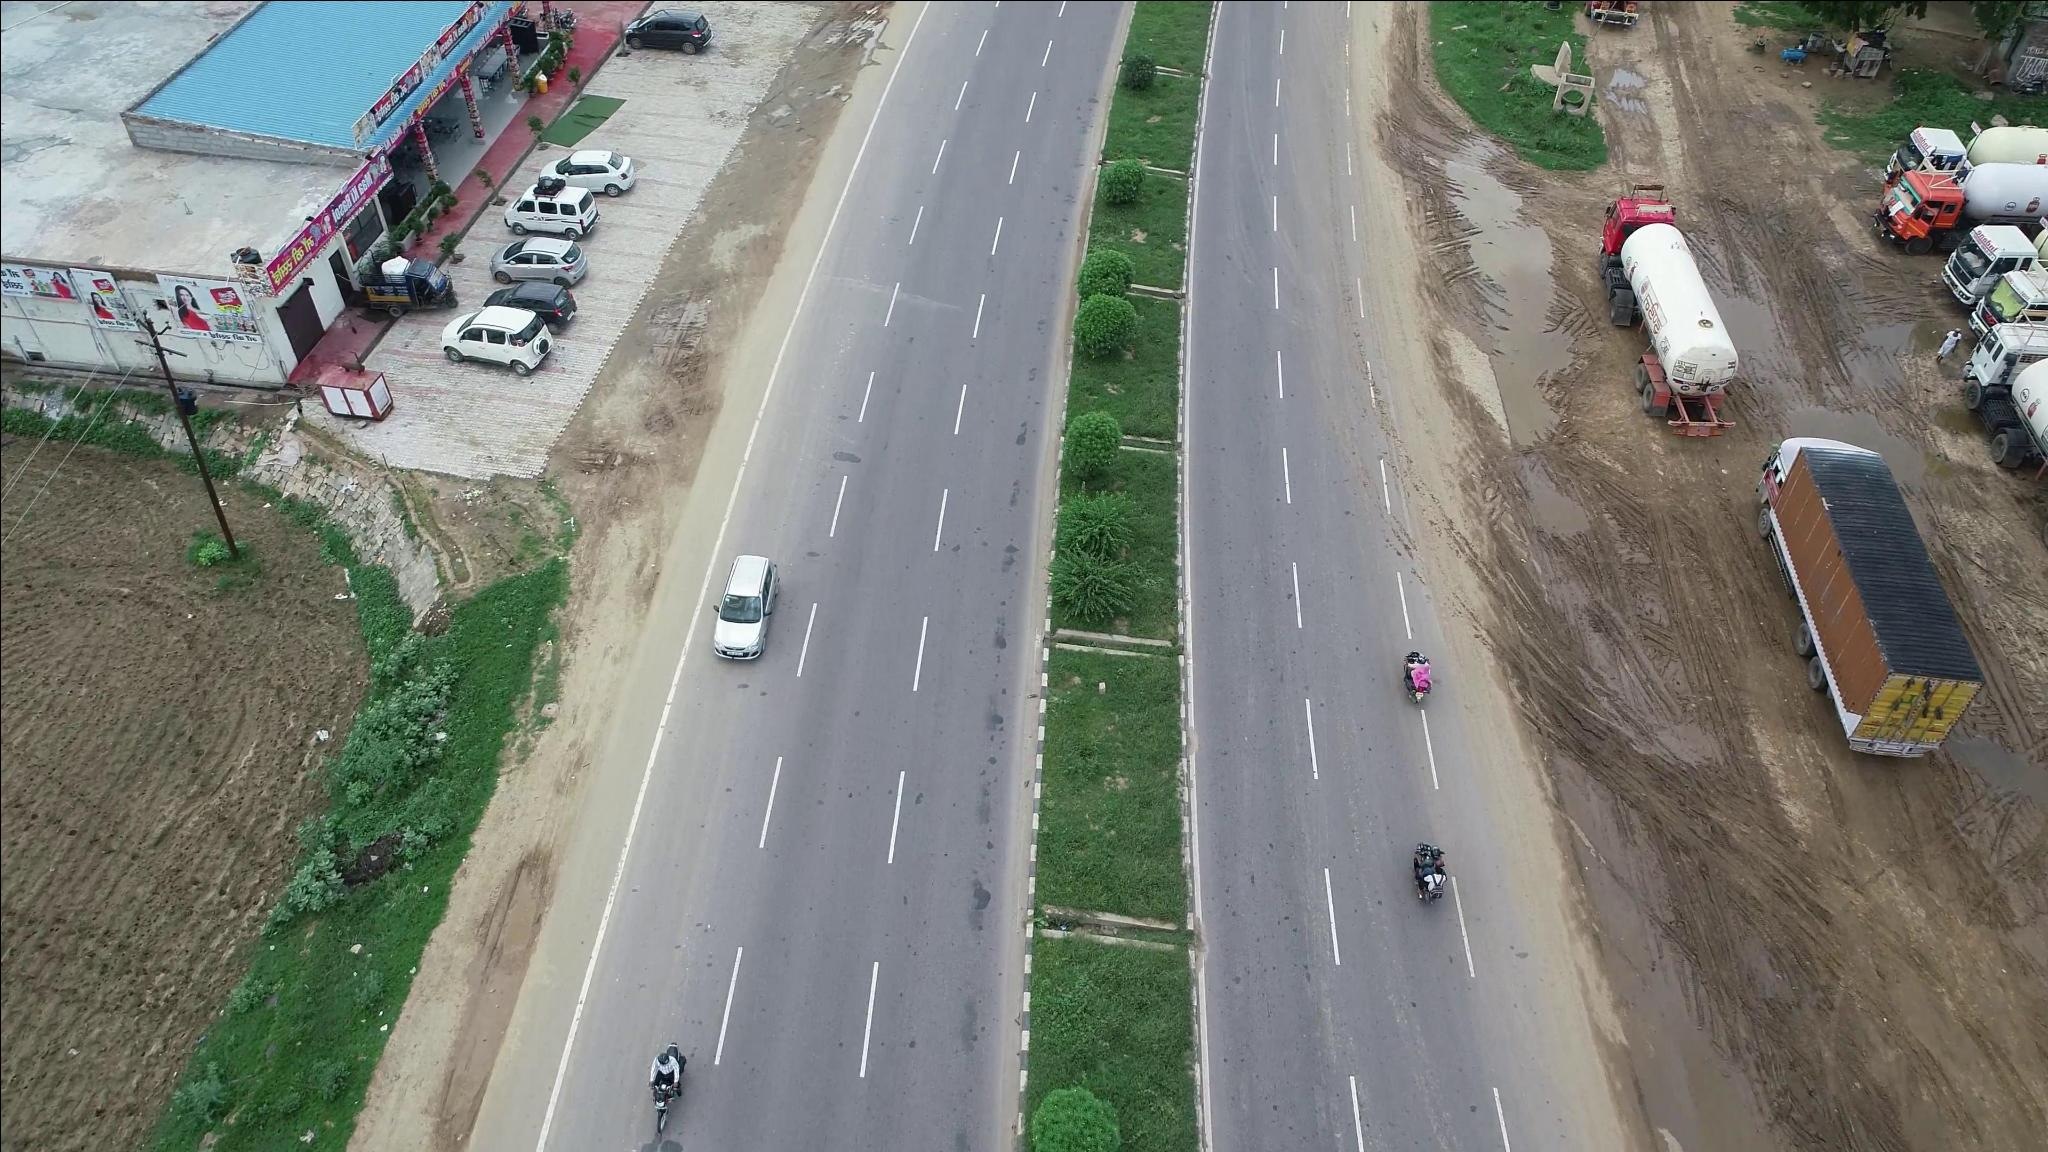Ravelling: (964, 617, 1009, 930)
